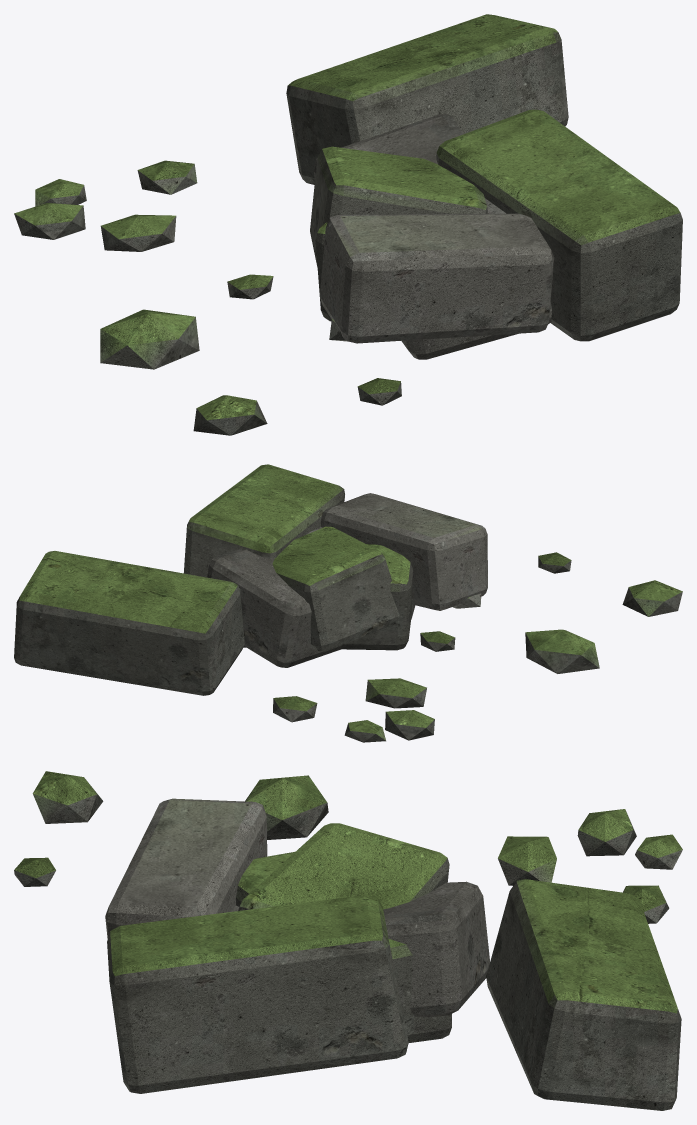
File: ER_Blocs_Tombes_3m.gltf
3 views of the same model, one above another, from view 1: azimuth 30°, elevation 25°; view 2: azimuth 150°, elevation 25°; view 3: azimuth 270°, elevation 25° (orthographic). The views are drawn at different scales.
Visible parts, largest first — view 1: ER_Blocs_Tombes_3m_PM.001, ER_Blocs_Tombes_3m_P.001; view 2: ER_Blocs_Tombes_3m_PM.001, ER_Blocs_Tombes_3m_P.001; view 3: ER_Blocs_Tombes_3m_PM.001, ER_Blocs_Tombes_3m_P.001.
Part boxes in pixels (x1,y1,x2,y2): ER_Blocs_Tombes_3m_PM.001: (14,14,682,435); ER_Blocs_Tombes_3m_P.001: (314,114,554,359); ER_Blocs_Tombes_3m_PM.001: (14,464,682,742); ER_Blocs_Tombes_3m_P.001: (207,493,487,667); ER_Blocs_Tombes_3m_PM.001: (14,771,682,1110); ER_Blocs_Tombes_3m_P.001: (105,798,489,1016).
Size of the model in its own units: 2.48 by 0.5975 by 2.19.
Materials: 2 (2 with a texture image).
